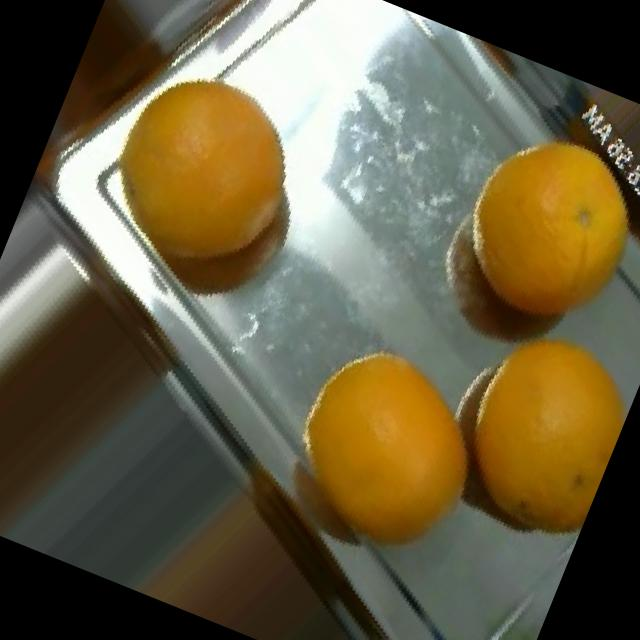Fruit: (414, 83, 640, 363)
